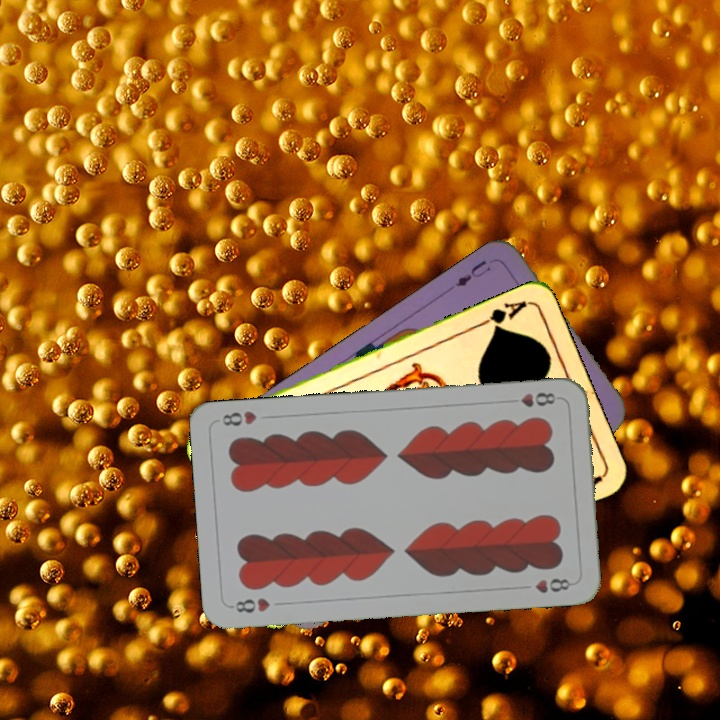EU: (451, 256, 494, 290)
GA: (474, 296, 530, 335)
H8: (503, 388, 558, 410), (227, 593, 273, 615)
